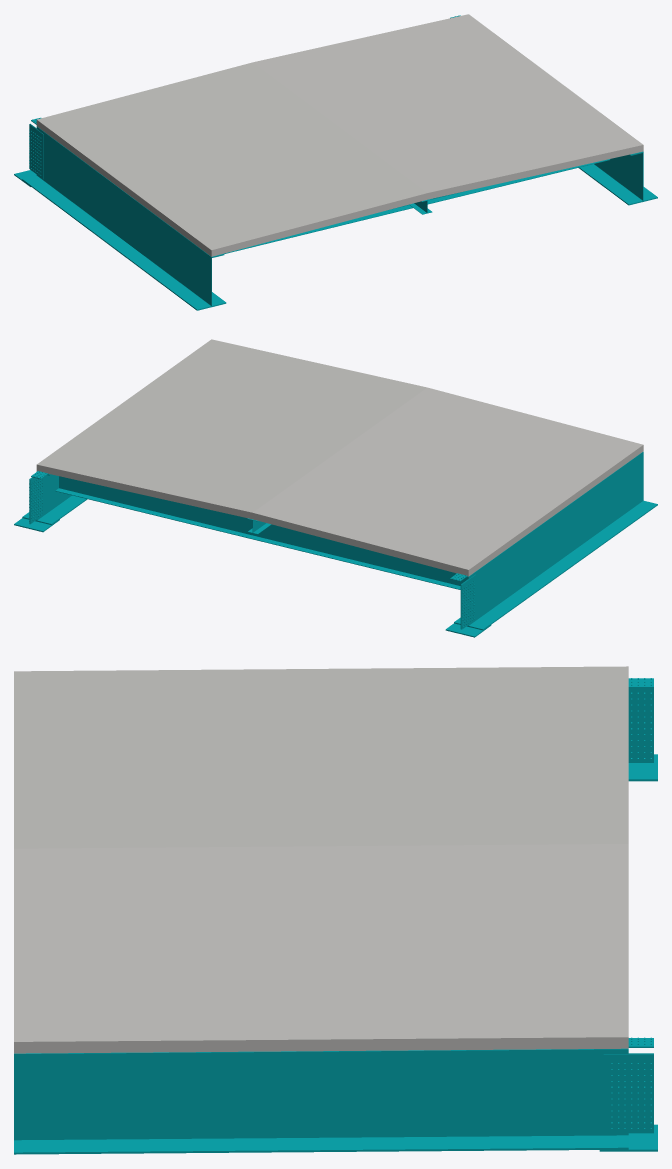
File: DECK_NS02.glb
3 renders of one model, top to bottom at view 1: azimuth 30°, elevation 25°; view 2: azimuth 150°, elevation 25°; view 3: azimuth 270°, elevation 25°, orthographic. The views are drawn at different scales.
Parts seen in each view (by area): view 1: NS02_Slab_15, NS02_G_W_0, NS02_G_E_1, NS02_FB_bf_14, NS02_SpliceW_17; view 2: NS02_Slab_15, NS02_G_W_0, NS02_FB_web_3, NS02_FB_bf_6, NS02_G_E_1, NS02_SpliceW_17, NS02_SpliceW_25; view 3: NS02_Slab_15, NS02_G_E_1, NS02_SpliceW_26, NS02_SpliceW_18.
Part boxes in pixels (bbox=[...]): NS02_Slab_15: bbox=[36, 14, 643, 256]; NS02_G_W_0: bbox=[22, 126, 226, 310]; NS02_G_E_1: bbox=[578, 151, 657, 205]; NS02_FB_bf_14: bbox=[224, 159, 610, 253]; NS02_SpliceW_17: bbox=[29, 124, 43, 178]; NS02_Slab_15: bbox=[36, 339, 643, 576]; NS02_G_W_0: bbox=[454, 451, 657, 630]; NS02_FB_web_3: bbox=[59, 476, 468, 585]; NS02_FB_bf_6: bbox=[55, 488, 460, 589]; NS02_G_E_1: bbox=[22, 471, 87, 524]; NS02_SpliceW_17: bbox=[461, 574, 476, 629]; NS02_SpliceW_25: bbox=[30, 477, 44, 524]; NS02_Slab_15: bbox=[14, 666, 628, 1053]; NS02_G_E_1: bbox=[14, 1048, 628, 1154]; NS02_SpliceW_26: bbox=[603, 1054, 653, 1133]; NS02_SpliceW_18: bbox=[628, 688, 653, 762].
Size of the model in its own units: 18.26 by 2.43 by 12.57.
